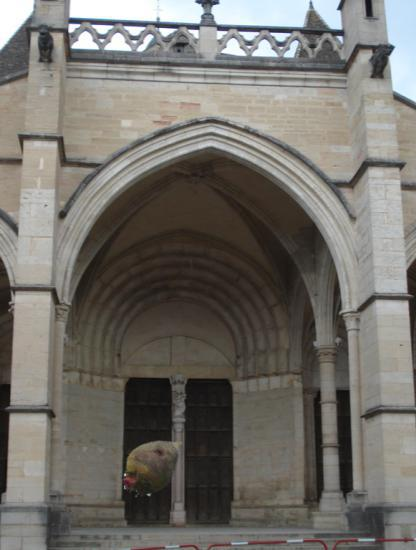Beetroot: (115, 427, 191, 503)
